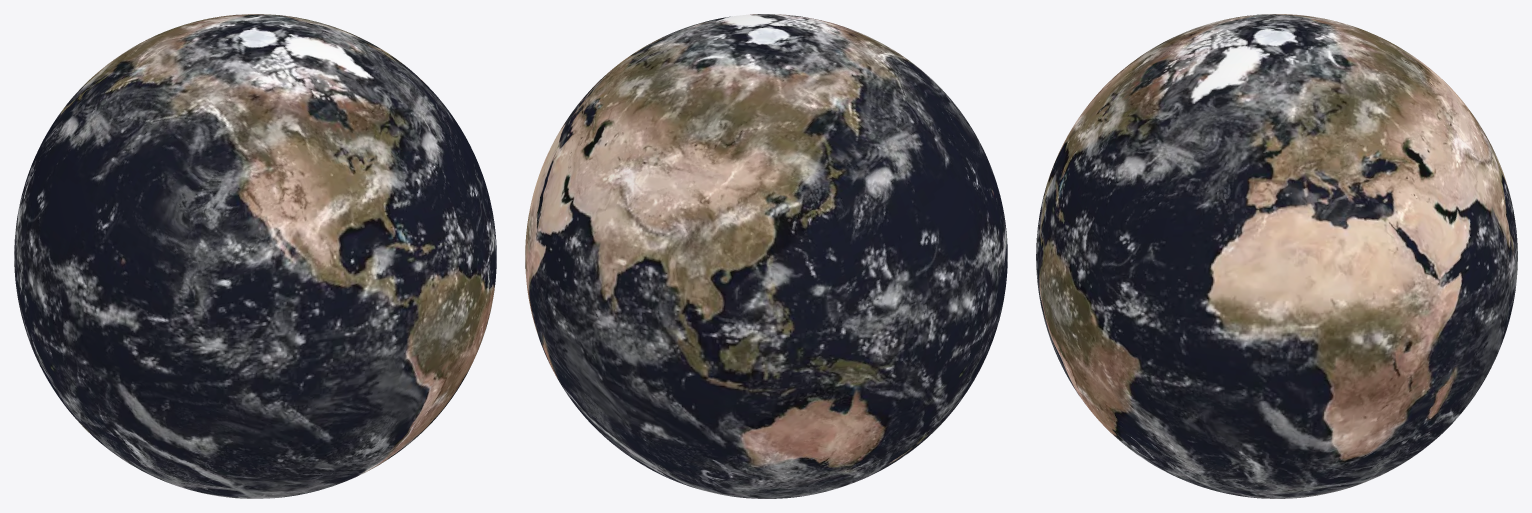
Rendered from earth-comp.glb.
3 views of the same model, side by side, from view 1: azimuth 30°, elevation 25°; view 2: azimuth 150°, elevation 25°; view 3: azimuth 270°, elevation 25° (orthographic).
Visible parts, largest first — view 1: Earth; view 2: Earth; view 3: Earth.
Boxes of the visible parts, box(x1,y1,x2,y2) form: Earth: box(14, 14, 496, 498); Earth: box(525, 14, 1007, 498); Earth: box(1036, 14, 1517, 498).
Bounding box in the file's own units: 0.3854 × 0.3883 × 0.3854.
1 material, 1 textured.
